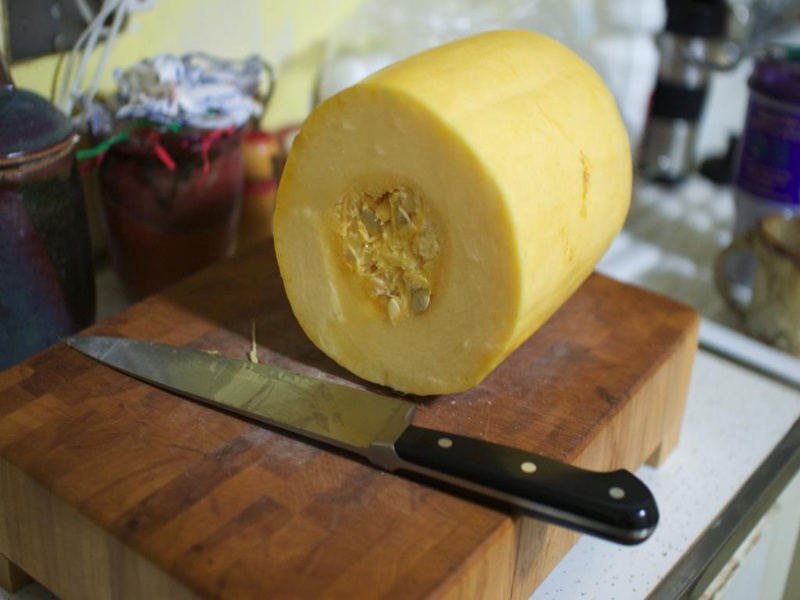knife: (52, 330, 662, 544)
